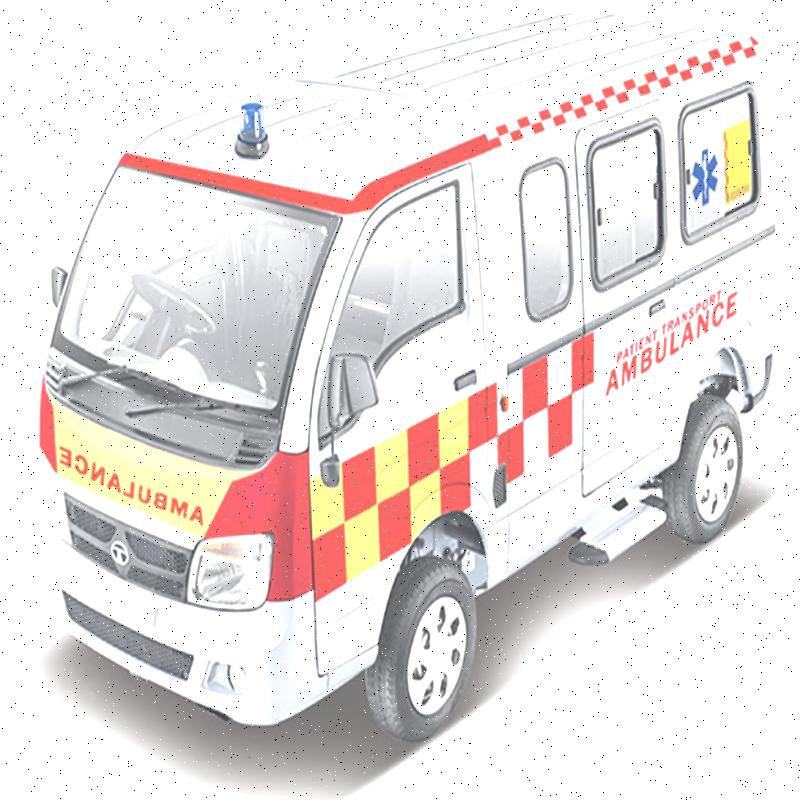ambulance: (27, 40, 780, 730)
